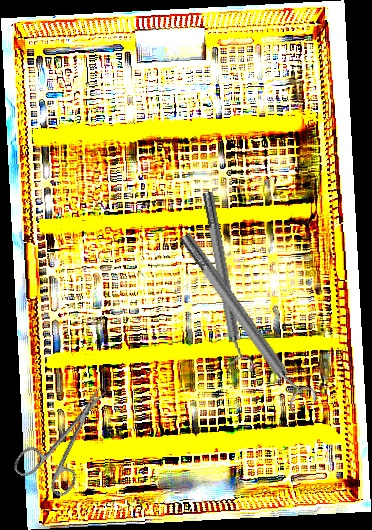Fixation Ring: (171, 225, 321, 417), (194, 189, 256, 377)
Iris Scissors: (10, 372, 130, 504)
